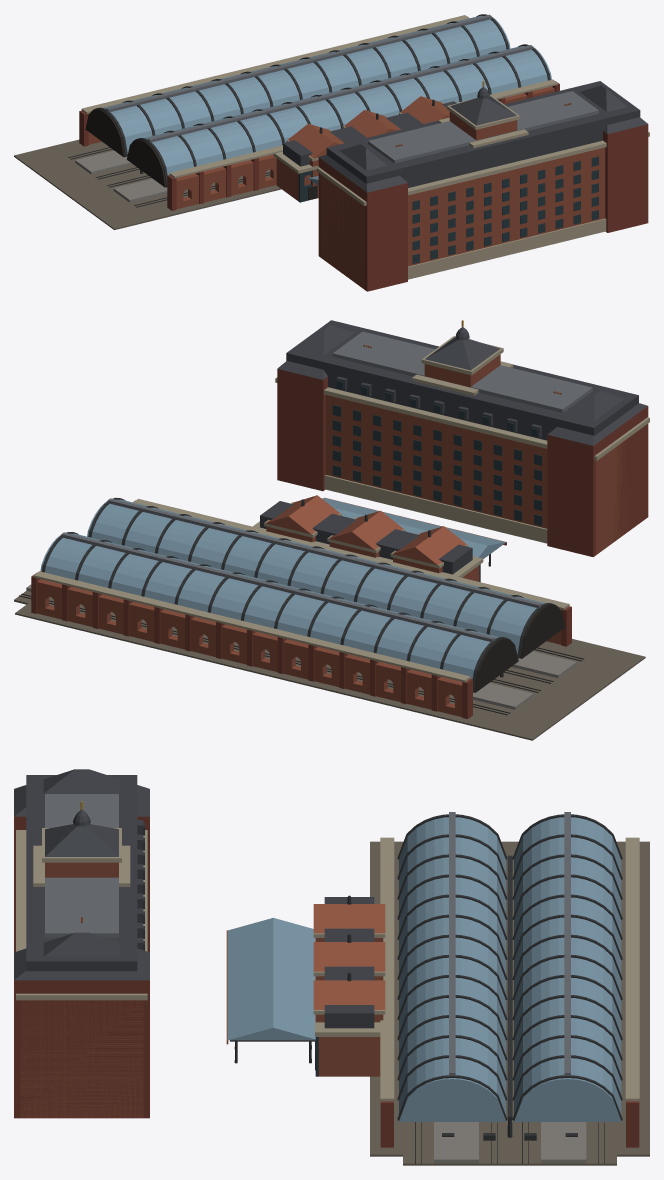
The model's file is marylebone_station.glb.
The picture shows the model from 3 angles, top to bottom: view 1: azimuth 30°, elevation 25°; view 2: azimuth 150°, elevation 25°; view 3: azimuth 270°, elevation 25°; orthographic projection. The views are drawn at different scales.
Parts seen in each view (by area): view 1: marylebone_station; view 2: marylebone_station; view 3: marylebone_station.
Boxes of the visible parts, bbox=[...] form: marylebone_station: bbox=[14, 14, 649, 291]; marylebone_station: bbox=[14, 320, 649, 740]; marylebone_station: bbox=[14, 769, 649, 1165].
Size of the model in its own units: 185 by 59.8 by 154.
